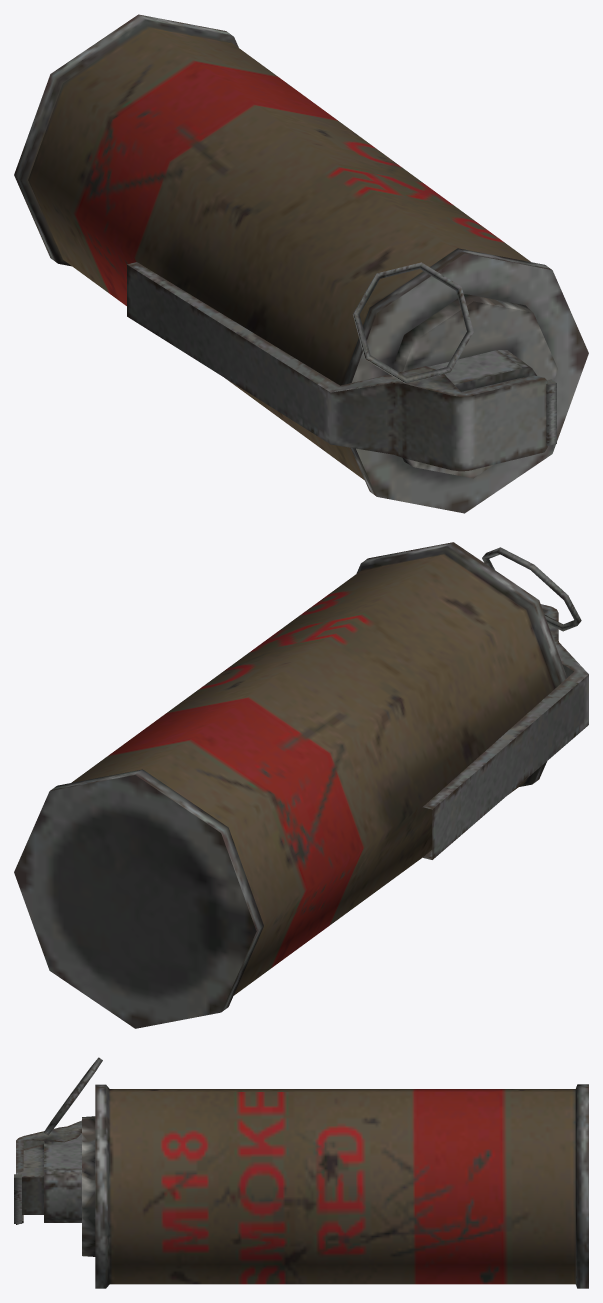
Rendered from weapon_usa_smoke_grenade_lod10.obj.
3 views of the same model, one above another, from view 1: azimuth 30°, elevation 25°; view 2: azimuth 150°, elevation 25°; view 3: azimuth 270°, elevation 25° (orthographic). The views are drawn at different scales.
Visible parts, largest first — view 1: TomGroup_0; view 2: TomGroup_0; view 3: TomGroup_0.
Part boxes in pixels (bbox=[...]): TomGroup_0: bbox=[14, 14, 588, 513]; TomGroup_0: bbox=[14, 542, 588, 1028]; TomGroup_0: bbox=[14, 1057, 588, 1288].
Size of the model in its own units: 6.2 by 5.54 by 14.45.
1 material, 1 textured.
